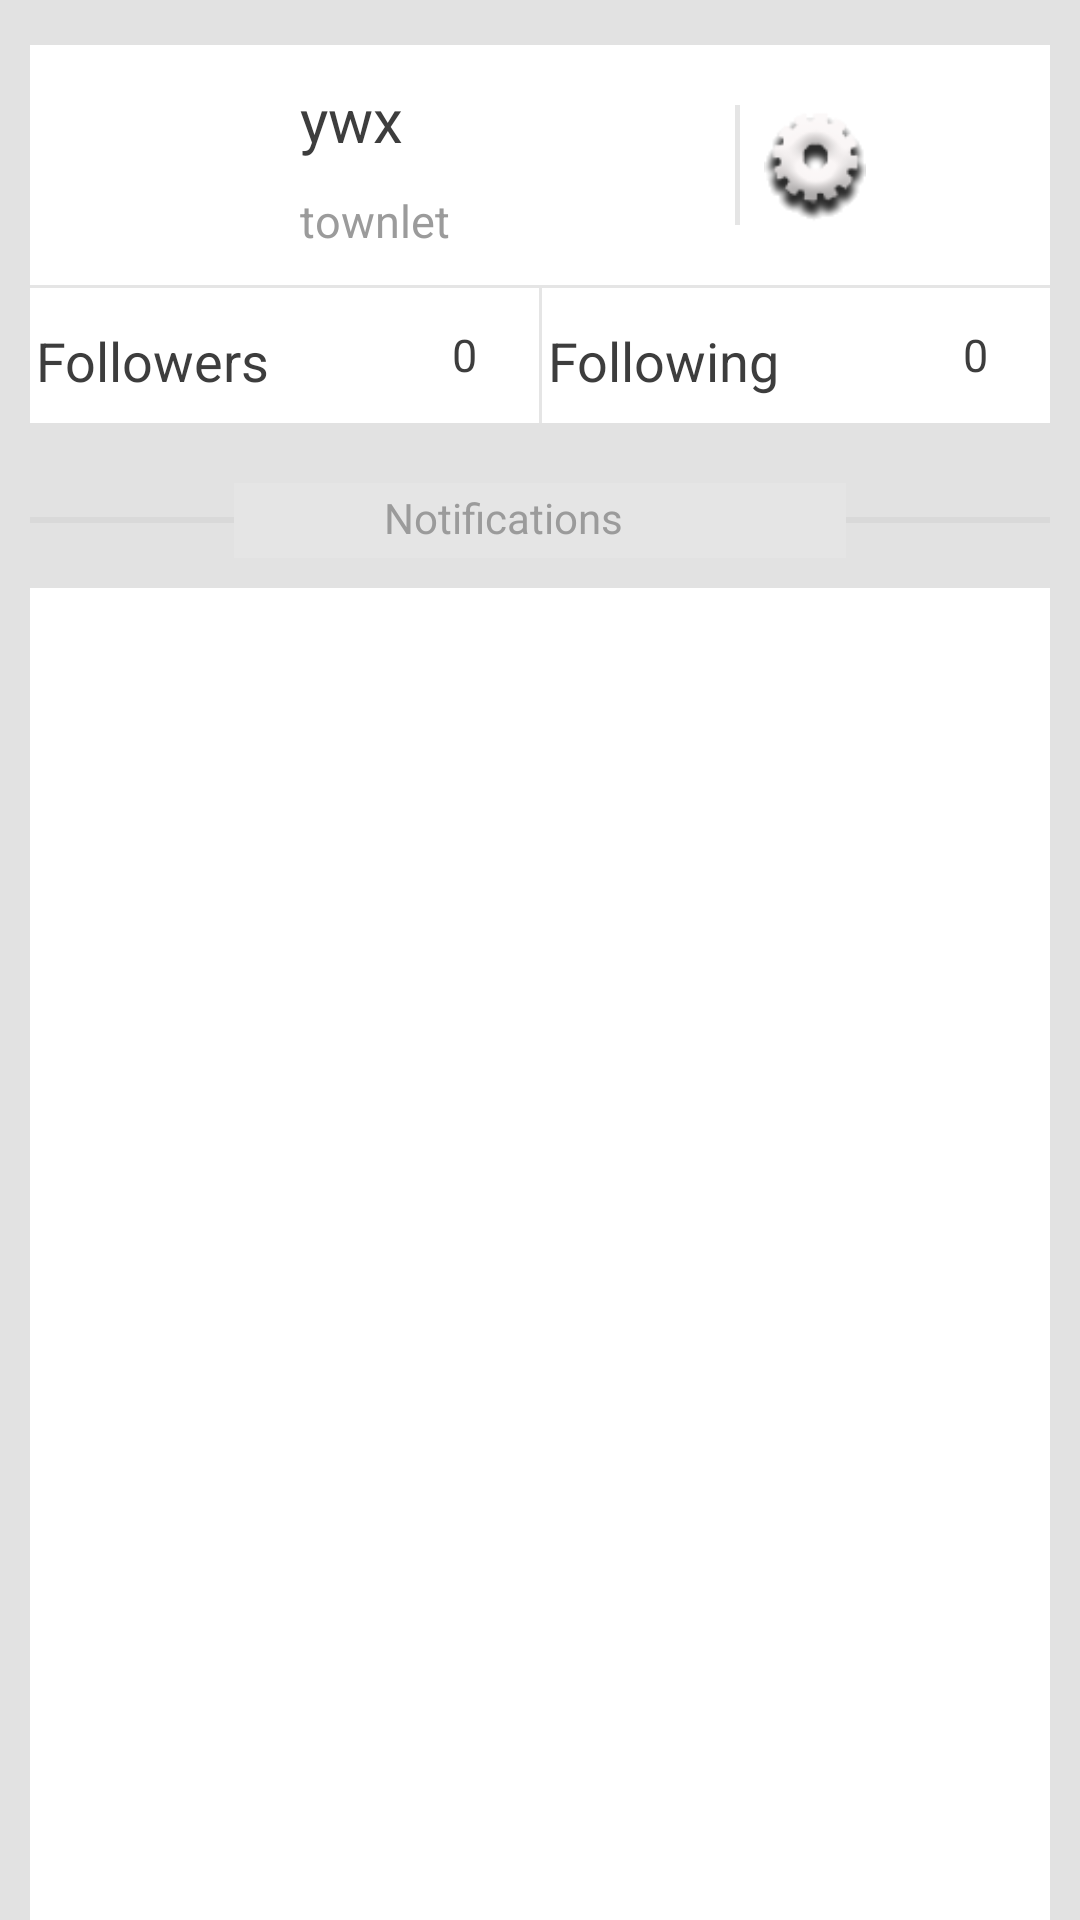

Locate icon controls on the screen. Image size 1080 × 1920, boxes as (x1, y1, x2, y2).
user setting: (766, 119, 866, 218)
